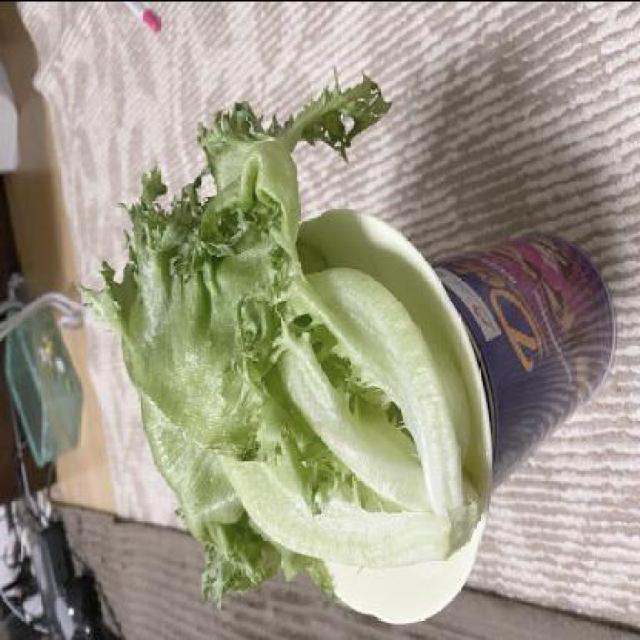Lettuce: (77, 74, 482, 602)
